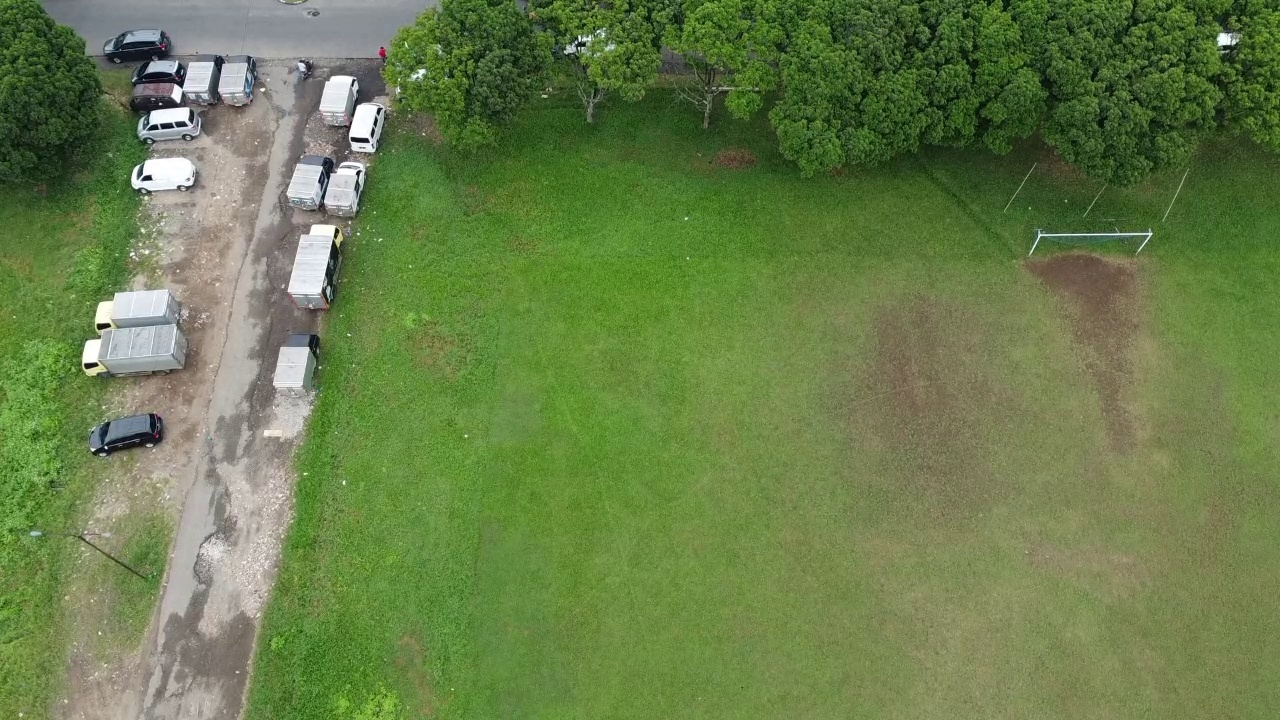mobil: (94, 24, 180, 63), (86, 414, 168, 454), (127, 153, 203, 191), (134, 107, 205, 147), (345, 94, 389, 157), (125, 81, 187, 112), (129, 58, 191, 88)
